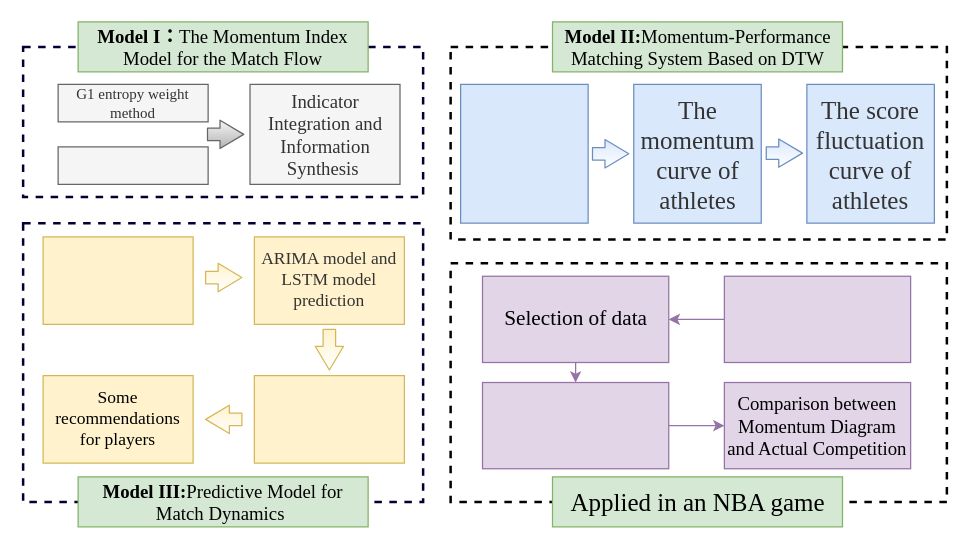
The diagram is 969 pixels wide and 549 high, and some of its shapes have lost their labels. Each missing label, with the box of its shape:
Conversion of Momentum to Winning Probability: (42, 236, 193, 324)
DTW algorithm: (459, 83, 588, 223)
Independence Rights Law: (57, 146, 208, 184)
Recommendations for Player Performance: (253, 374, 404, 463)
Selection of Classic Competitions: (723, 275, 911, 362)
The drawing of momentum diagrams: (481, 381, 669, 469)
